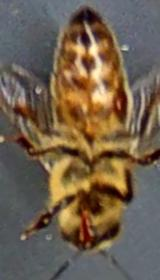varroa_mite: (111, 82, 130, 127)
